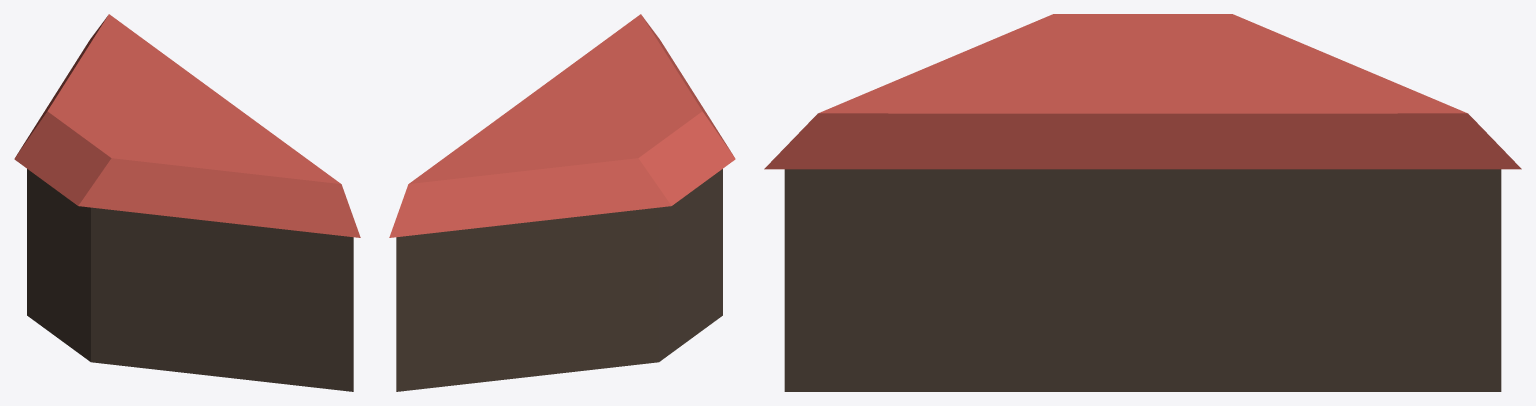
File: Booth Seat End.fbx
3 renders of one model, left to right at view 1: azimuth 30°, elevation 25°; view 2: azimuth 150°, elevation 25°; view 3: azimuth 270°, elevation 25°, orthographic. The views are drawn at different scales.
Visible parts, largest first — view 1: Booth Seat End; view 2: Booth Seat End; view 3: Booth Seat End.
Boxes of the visible parts, <box> form: Booth Seat End: <box>14,14,360,391</box>; Booth Seat End: <box>389,14,735,391</box>; Booth Seat End: <box>764,14,1521,391</box>.
Size of the model in its own units: 424 by 1110 by 450.
